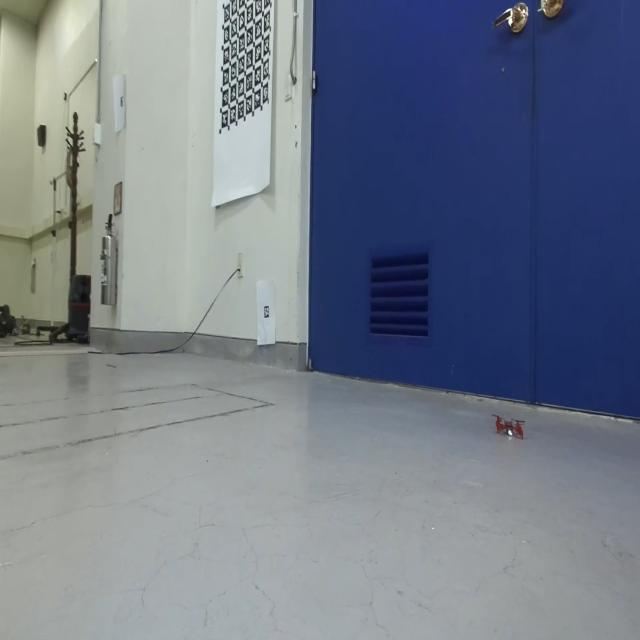crazyflie: (491, 408, 529, 440)
